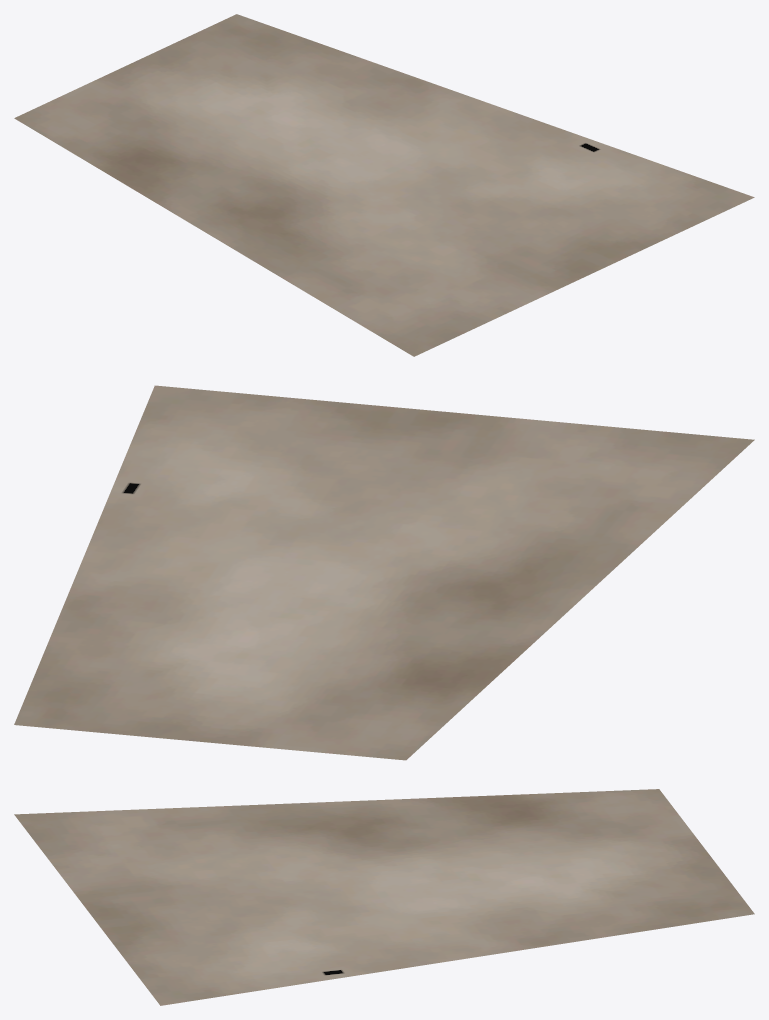
File: web_17.fbx
3 renders of one model, top to bottom at view 1: azimuth 30°, elevation 25°; view 2: azimuth 150°, elevation 25°; view 3: azimuth 270°, elevation 25°, orthographic. The views are drawn at different scales.
Parts seen in each view (by area): view 1: mine_tileset/mine_web03_mat; view 2: mine_tileset/mine_web03_mat; view 3: mine_tileset/mine_web03_mat.
Part boxes in pixels (box(x1,y1,x2,y2)): mine_tileset/mine_web03_mat: box(14, 14, 754, 356); mine_tileset/mine_web03_mat: box(14, 385, 754, 760); mine_tileset/mine_web03_mat: box(14, 789, 754, 1005).
Bounding box in the file's own units: 5.39 × 0 × 7.78.
